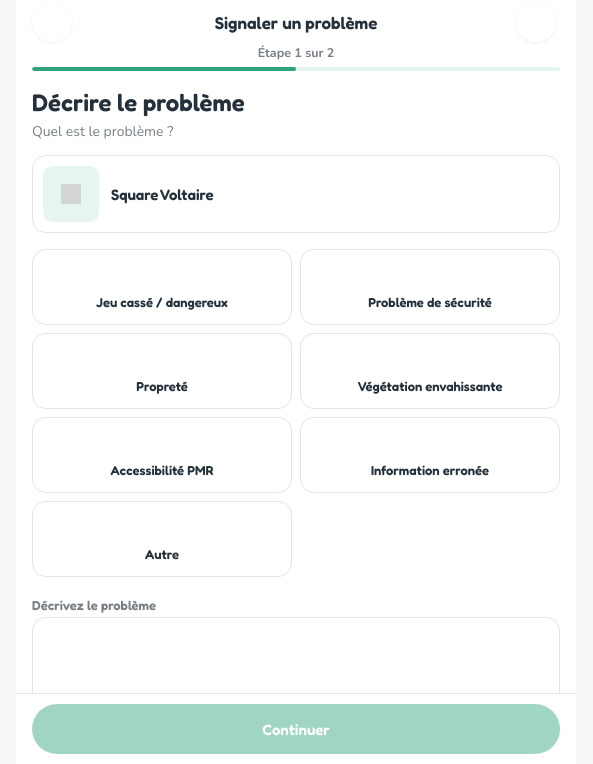
Scenario: ReportProblem — parcours en 3 étapes › park preselected → 2 displayed steps; categories are pressable cards; Continuer needs a category
expect the text "Étape 1 sur 2" is shown: met, box [258, 44, 334, 61]
expect the button "Continuer" is disabled: met, box [32, 704, 560, 754]
Click the button "Propreté" at (162,371), box [32, 333, 292, 409]
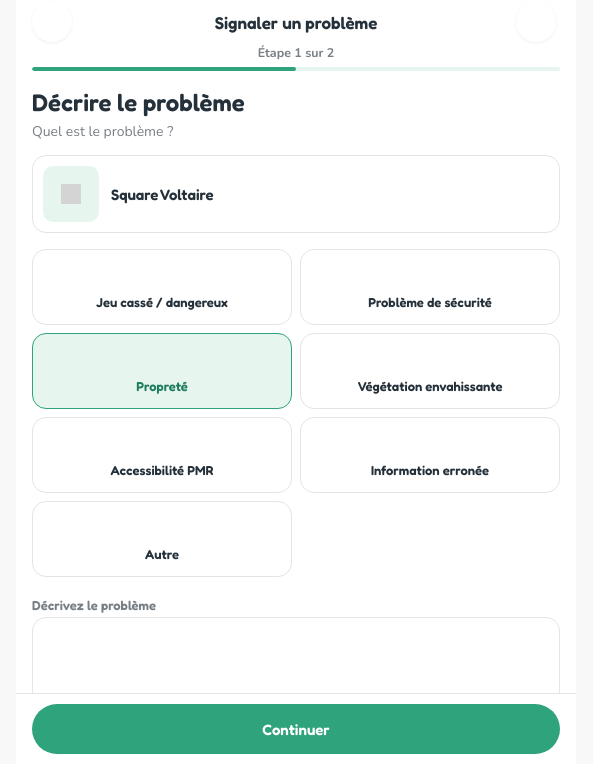
expect the button "Continuer" is enabled: met, box [32, 704, 560, 754]
